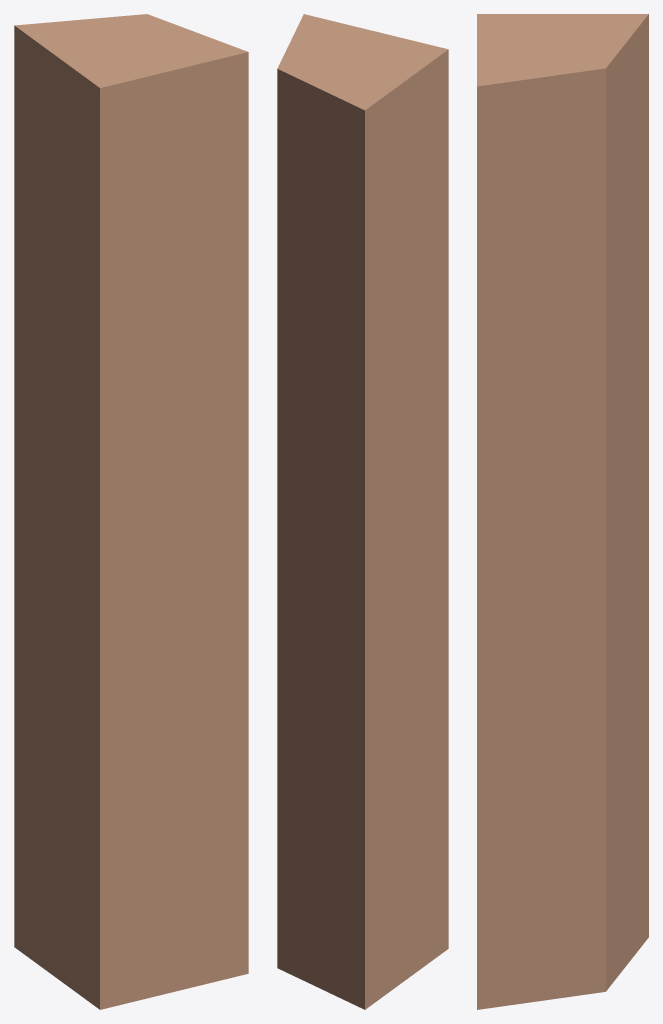
The model's file is cliff_corner_rock.glb.
3 renders of one model, left to right at view 1: azimuth 30°, elevation 25°; view 2: azimuth 150°, elevation 25°; view 3: azimuth 270°, elevation 25°, orthographic. The views are drawn at different scales.
Visible parts, largest first — view 1: cliff_corner_rock; view 2: cliff_corner_rock; view 3: cliff_corner_rock.
Boxes of the visible parts, box(x1,y1,x2,y2) form: cliff_corner_rock: box(14, 14, 248, 1009); cliff_corner_rock: box(277, 14, 448, 1009); cliff_corner_rock: box(477, 14, 648, 1009).
Bounding box in the file's own units: 0.1685 × 1 × 0.1685.
